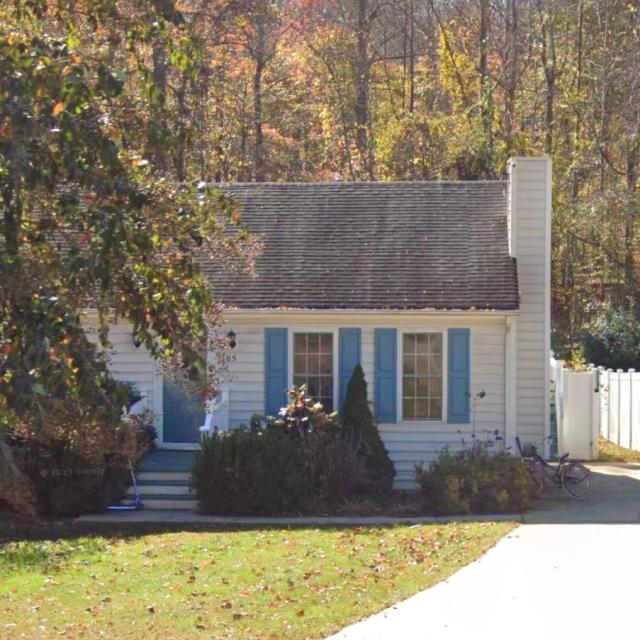House: (0, 157, 552, 509)
